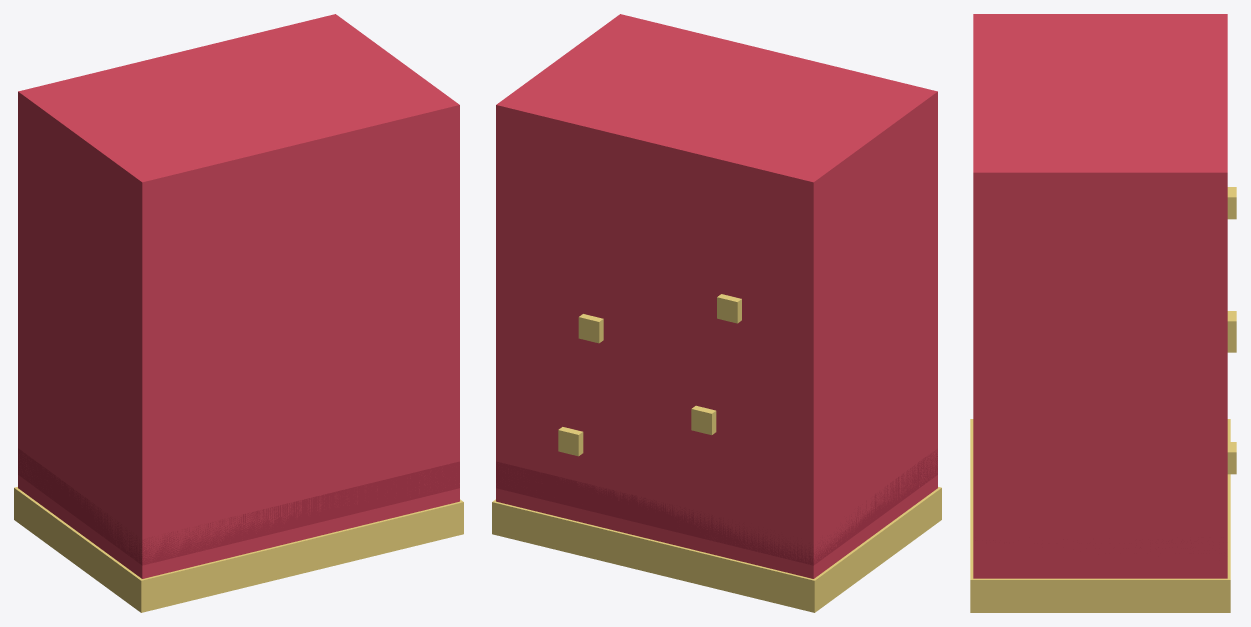
File: sari_saia.glb
3 renders of one model, left to right at view 1: azimuth 30°, elevation 25°; view 2: azimuth 150°, elevation 25°; view 3: azimuth 270°, elevation 25°, orthographic. The views are drawn at different scales.
Parts seen in each view (by area): view 1: sari_saia; view 2: sari_saia; view 3: sari_saia.
Part boxes in pixels (x1,y1,x2,y2): sari_saia: (14,14,463,612); sari_saia: (492,14,941,612); sari_saia: (970,14,1236,612).
Size of the model in its own units: 0.63 by 0.8 by 0.44.
